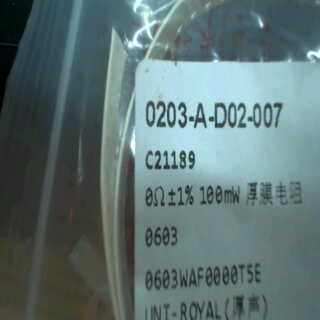0R: (144, 178, 245, 253)
